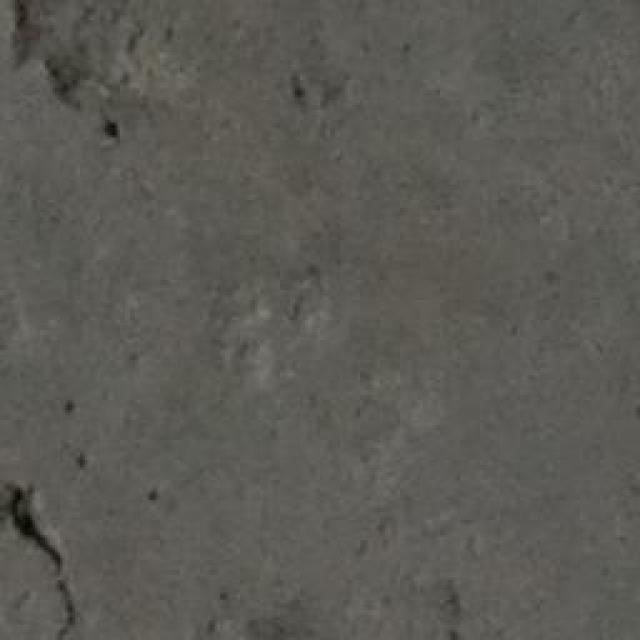Diagonal: (0, 0, 178, 158), (0, 462, 85, 640)
